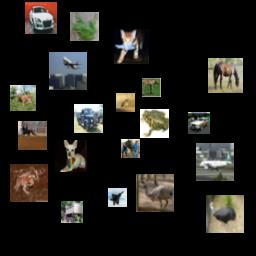airplane: (49, 52, 87, 90), (196, 143, 234, 181), (108, 188, 127, 207)
automobile: (25, 2, 57, 34), (188, 112, 210, 134)
bird: (136, 174, 174, 212), (206, 195, 244, 233), (116, 93, 135, 112)
cat: (114, 29, 149, 64)
deer: (10, 85, 36, 111), (142, 78, 161, 97)
dog: (55, 140, 87, 172)
frog: (10, 164, 48, 202), (140, 109, 169, 138), (70, 12, 99, 41)
truck: (74, 104, 103, 133), (61, 201, 83, 223)
